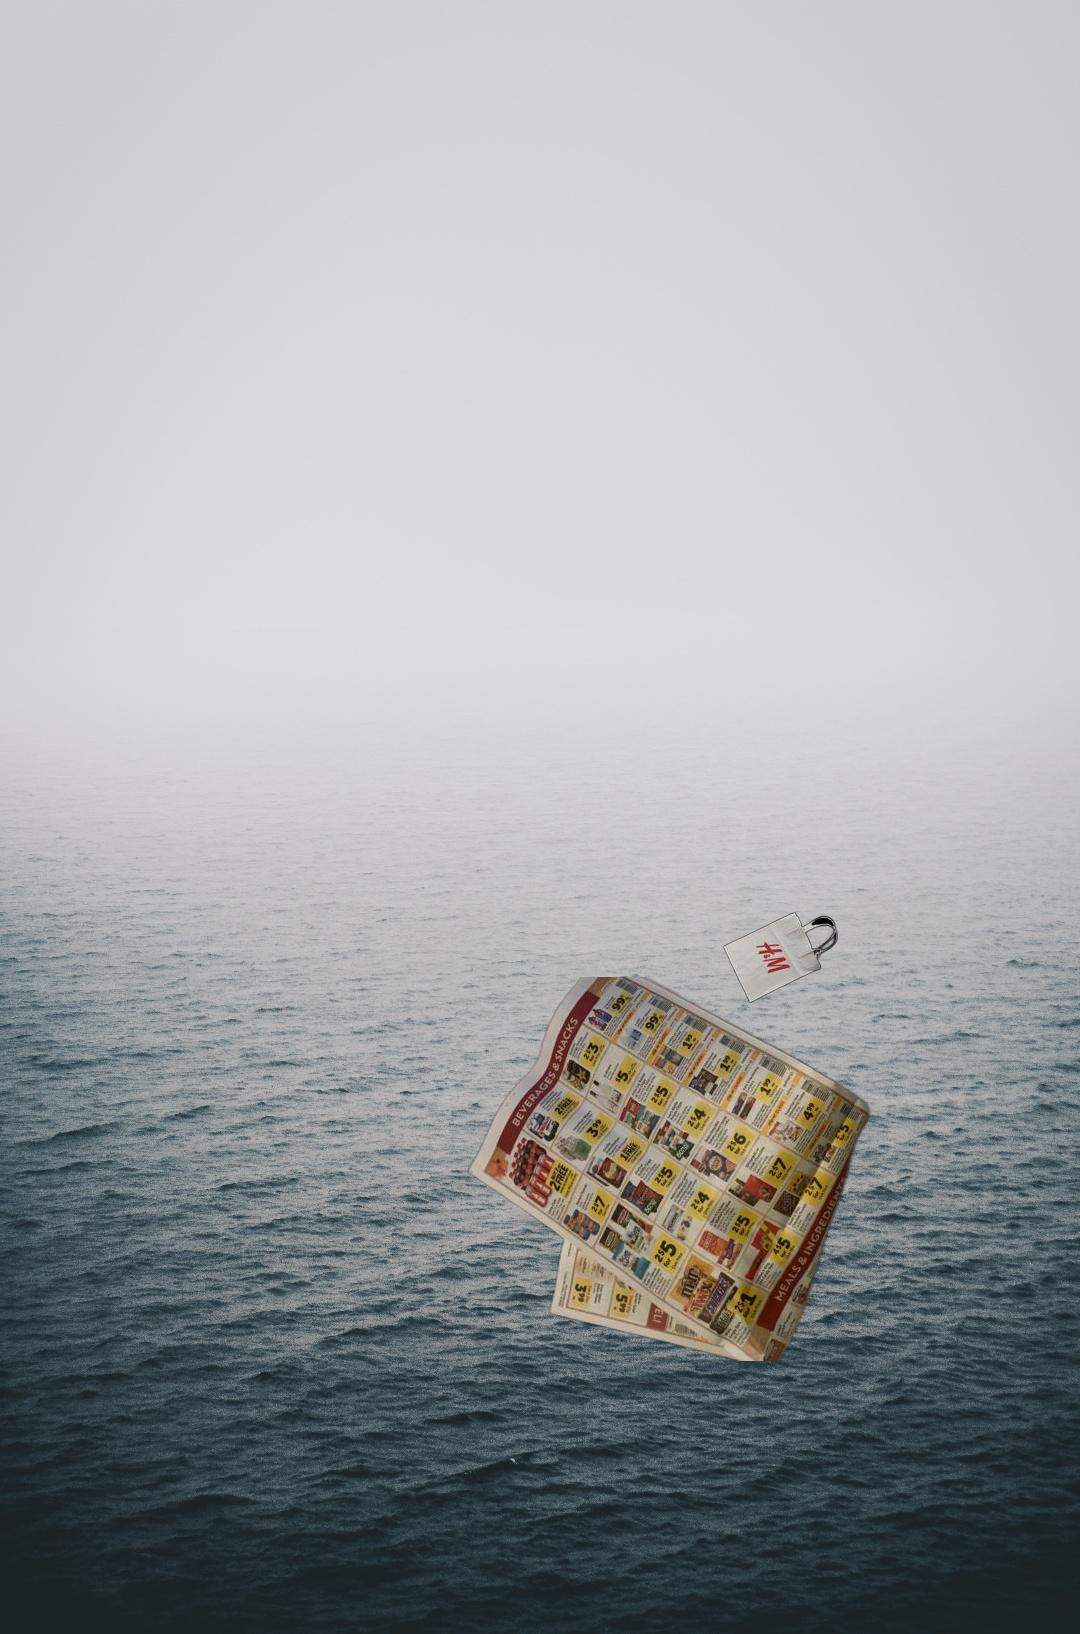biological: (67, 1633, 475, 1634)
paper: (464, 977, 874, 1360)
paper-bag: (720, 910, 841, 1004)
